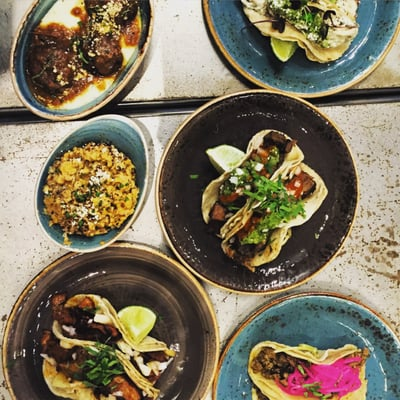sushi: (155, 91, 354, 292), (1, 242, 222, 400), (212, 293, 398, 400), (9, 0, 154, 121), (34, 116, 154, 252)
